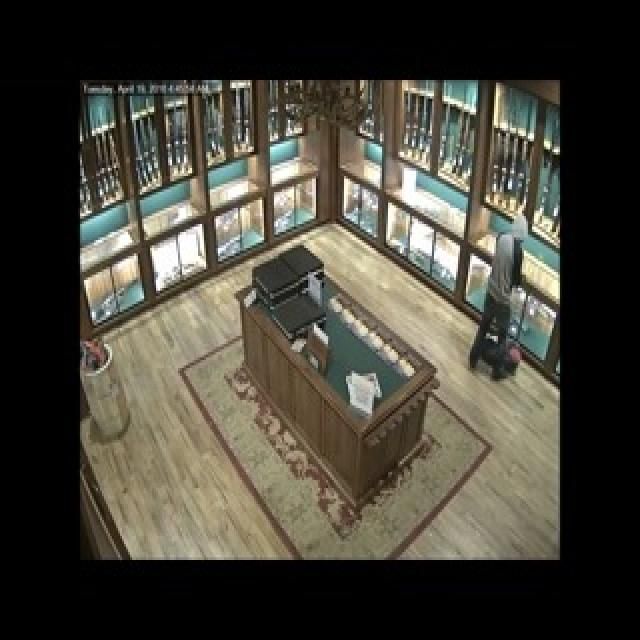thief: (482, 217, 543, 392)
